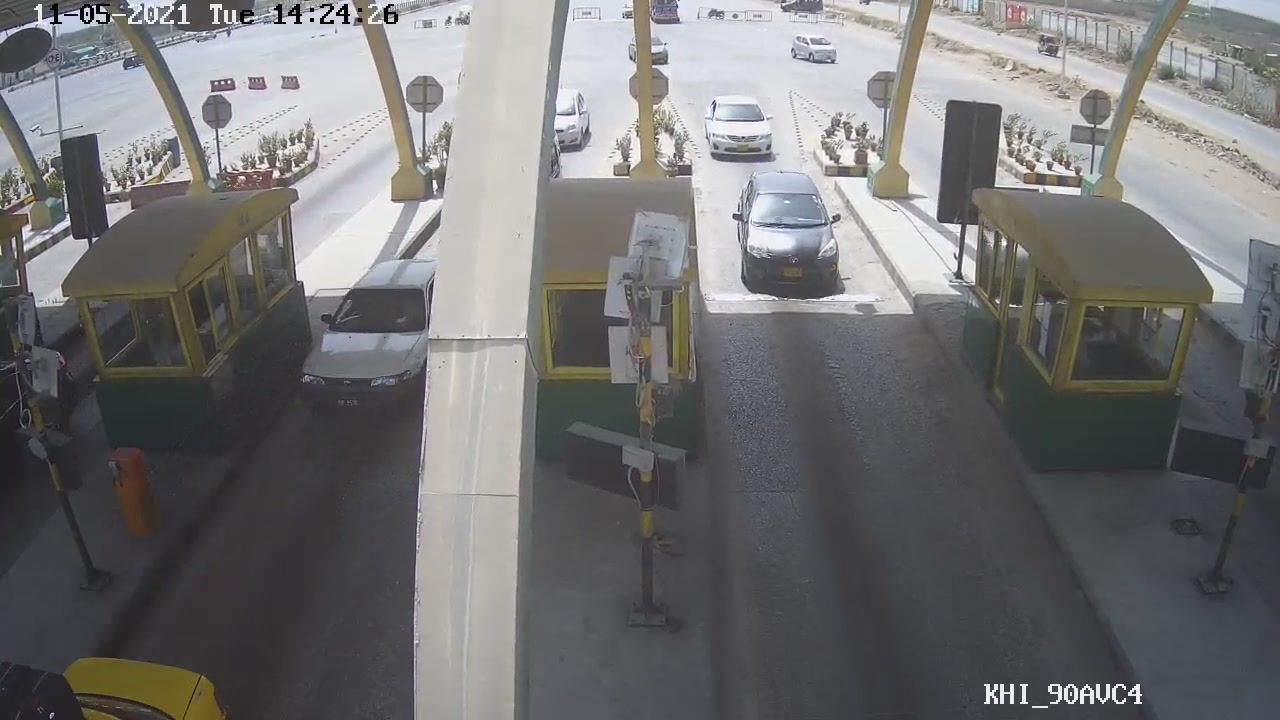F1: (726, 168, 848, 292)
